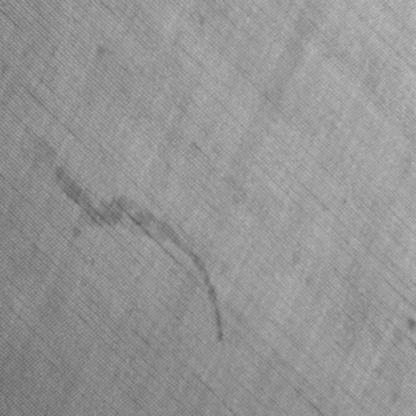oil spot: (52, 161, 226, 347)
